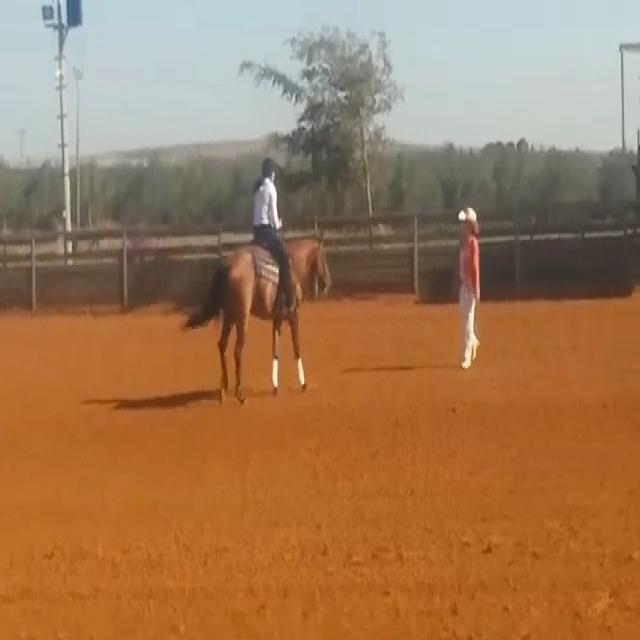horse: (182, 233, 332, 403)
